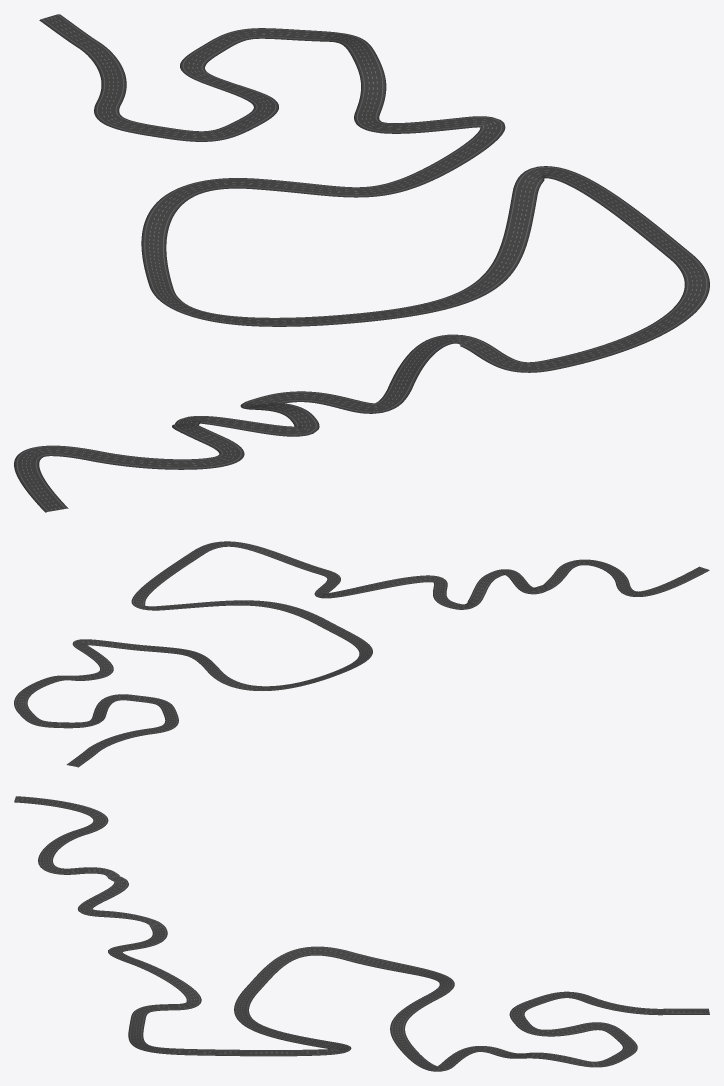
File: level_highway_RoadContainer_geo.glb
The picture shows the model from 3 angles, top to bottom: view 1: azimuth 30°, elevation 25°; view 2: azimuth 150°, elevation 25°; view 3: azimuth 270°, elevation 25°; orthographic projection. The views are drawn at different scales.
Visible parts, largest first — view 1: road_mesh15, road_mesh17, road_mesh16, road_mesh13, road_mesh25, road_mesh14, road_mesh12, road_mesh24, road_mesh20, road_mesh19, road_mesh11, road_mesh22 (+11 smaller); view 2: road_mesh15, road_mesh16, road_mesh17, road_mesh13, road_mesh14, road_mesh25, road_mesh19, road_mesh20, road_mesh24, road_mesh12, road_mesh22, road_mesh21 (+6 smaller); view 3: road_mesh15, road_mesh13, road_mesh14, road_mesh16, road_mesh25, road_mesh19, road_mesh12, road_mesh17, road_mesh24, road_mesh22, road_mesh20, road_mesh2 (+7 smaller).
Part boxes in pixels (x1,y1,x2,y2): road_mesh15: (357,192,537,322); road_mesh17: (545,254,709,369); road_mesh16: (512,166,691,258); road_mesh13: (141,178,256,288); road_mesh25: (14,445,99,512); road_mesh14: (149,285,360,326); road_mesh12: (253,170,438,197); road_mesh24: (90,437,244,469); road_mesh20: (261,386,412,413); road_mesh19: (388,334,493,386); road_mesh11: (420,116,505,177); road_mesh22: (175,414,319,436); road_mesh15: (159,600,327,625); road_mesh16: (131,551,204,610); road_mesh17: (193,541,326,574); road_mesh13: (208,669,345,690); road_mesh14: (318,621,372,671); road_mesh25: (616,566,709,596); road_mesh19: (314,577,411,598); road_mesh20: (407,575,459,608); road_mesh24: (556,559,629,583); road_mesh12: (142,645,219,671); road_mesh22: (486,569,544,594); road_mesh21: (454,575,496,609); road_mesh15: (234,988,333,1048); road_mesh13: (345,951,454,998); road_mesh14: (246,946,350,990); road_mesh16: (197,1042,351,1056); road_mesh25: (14,796,108,834); road_mesh19: (129,959,201,1010); road_mesh12: (390,995,437,1048); road_mesh17: (128,1016,197,1055); road_mesh24: (38,829,85,874); road_mesh22: (78,876,128,916); road_mesh20: (108,931,167,963); road_mesh2: (582,997,664,1015).
Bounding box in the file's own units: 893 × 85.62 × 1116.
Materials: 1 (1 with a texture image).
